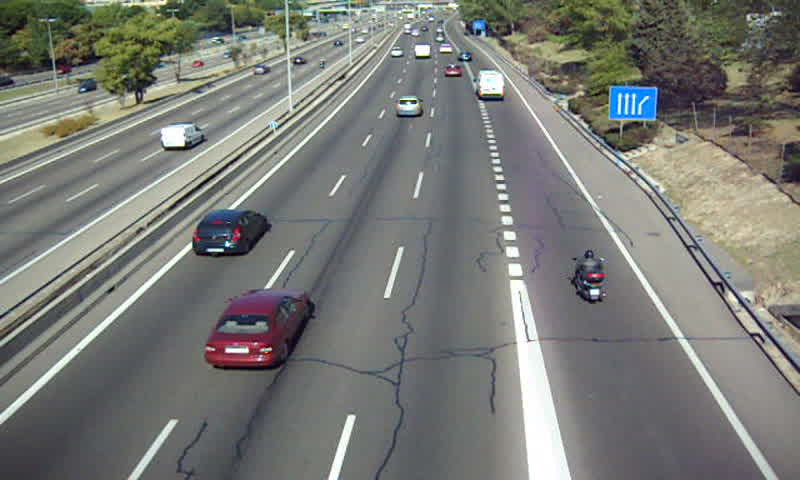car: (205, 288, 310, 370), (190, 211, 267, 257), (393, 94, 422, 119), (443, 64, 462, 78), (438, 42, 453, 55), (457, 50, 473, 62), (390, 46, 403, 58)
motorcycle: (571, 249, 606, 304)
van: (477, 69, 506, 100), (412, 44, 429, 59)
